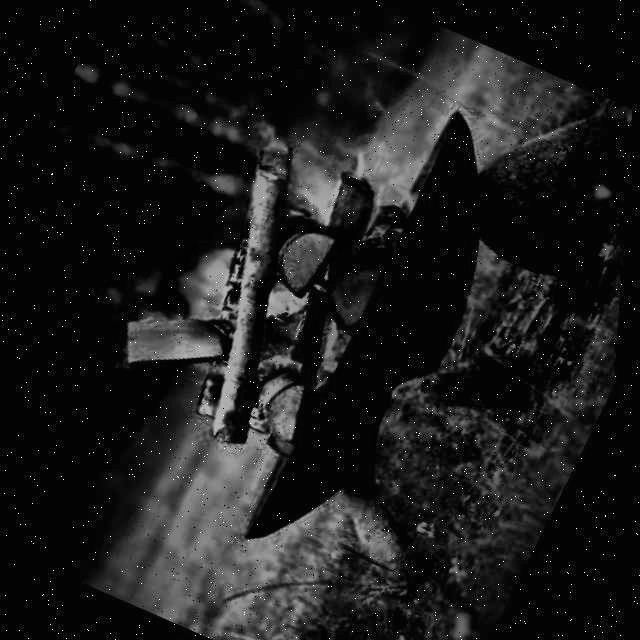Fire: (69, 82, 431, 440)
